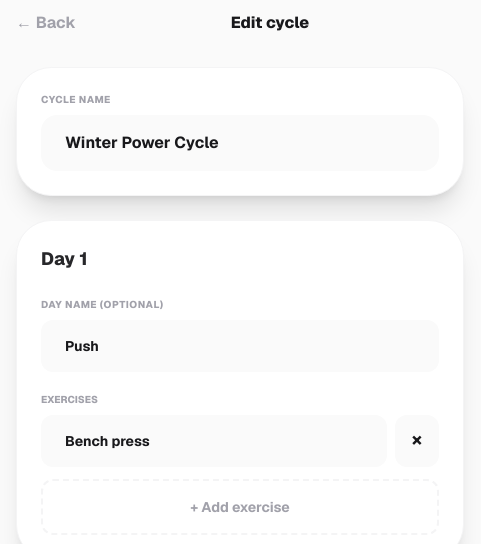
Test case: CycleFormView › adds and removes exercise rows within a day
This screenshot has width=481, height=544.
Expected: the number of fields with placeholder "Exercise 1" is 1, [41,415,387,467]
Click the button "+ Add exercise": x=240, y=507 [41,479,439,535]
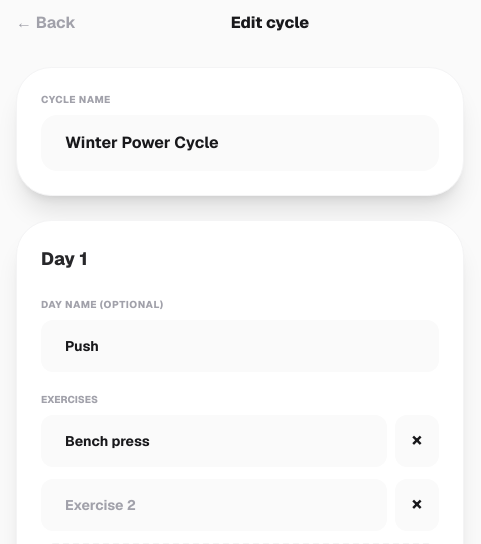
Expected: the number of fields with placeholder "Exercise 1" is 2, [41,415,387,467]; [41,479,387,531]
Click the button named "Remove exercise 2": x=417, y=505 [395,479,439,531]
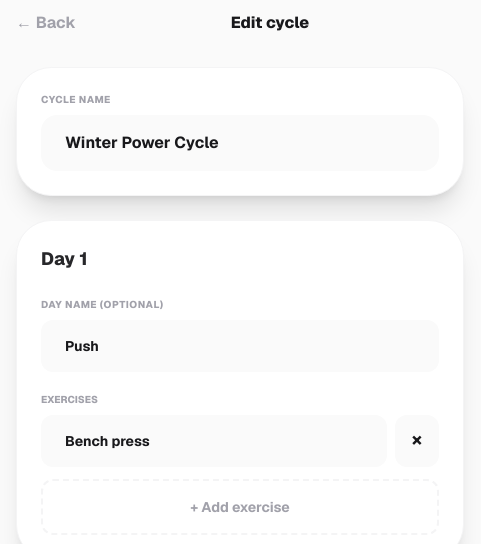
Expected: the number of fields with placeholder "Exercise 1" is 1, [41,415,387,467]
